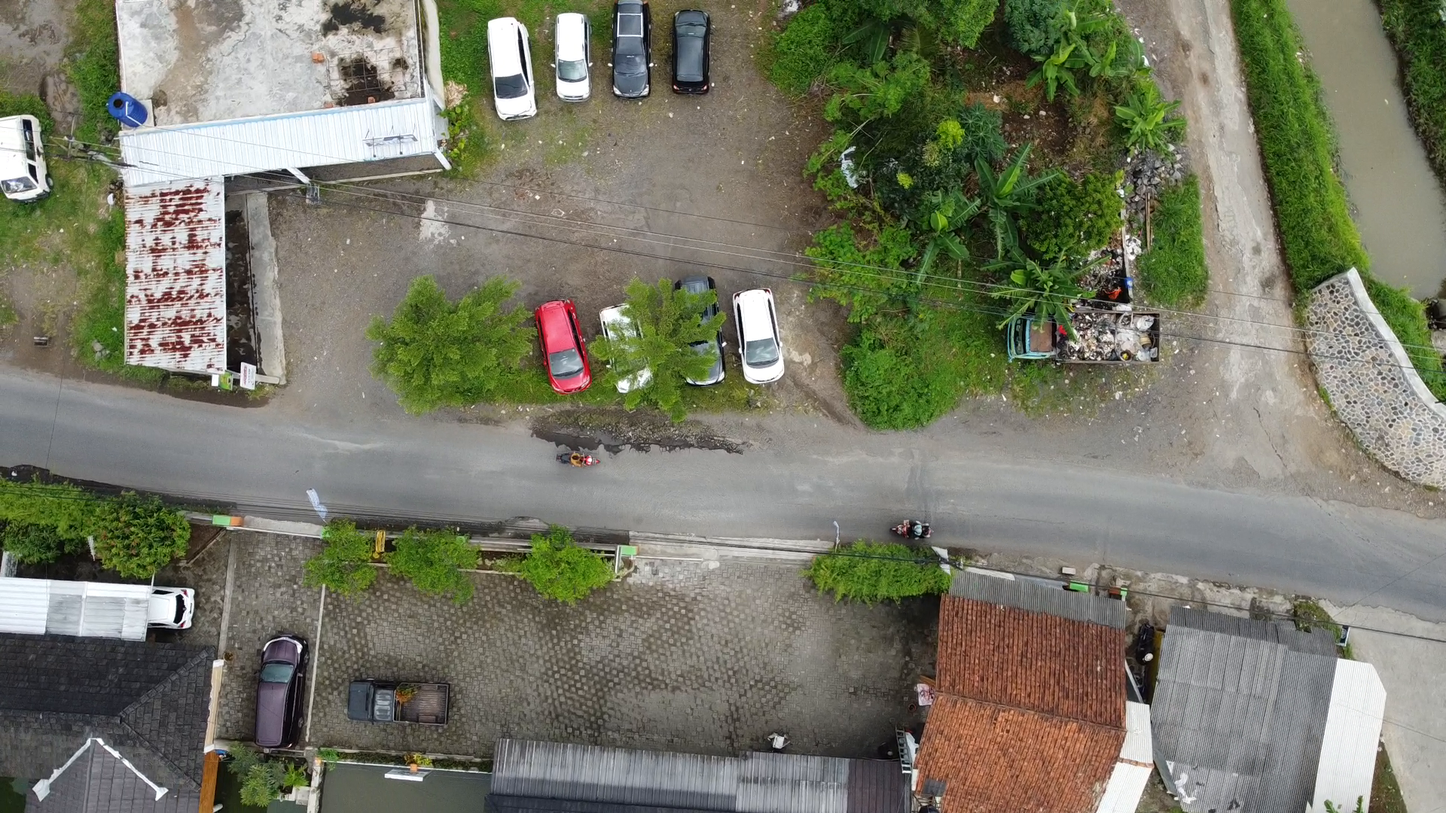mobil: (248, 626, 319, 768), (526, 294, 599, 409), (334, 670, 459, 737), (719, 278, 793, 388), (662, 269, 728, 388), (475, 15, 540, 131), (590, 294, 660, 400), (1, 102, 60, 219), (604, 1, 666, 110), (662, 12, 729, 106), (544, 7, 595, 96), (141, 578, 198, 636)
